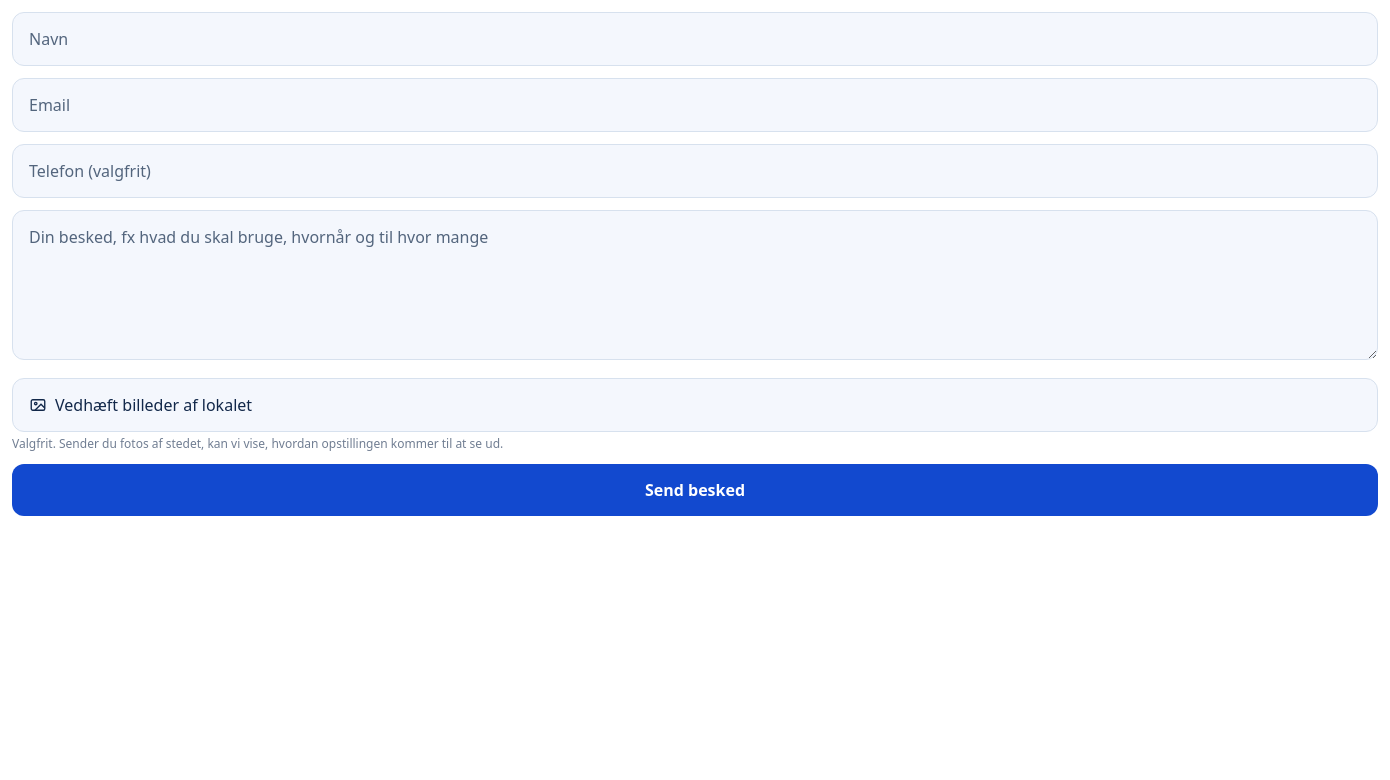
Test: ContactForm-komponenten › viser serverens fejlbesked og lader brugeren prøve igen
The width and height of the screenshot is (1390, 780).
Type "Anna" into the field with placeholder "Navn" at [695, 39], box [12,12,1378,66]
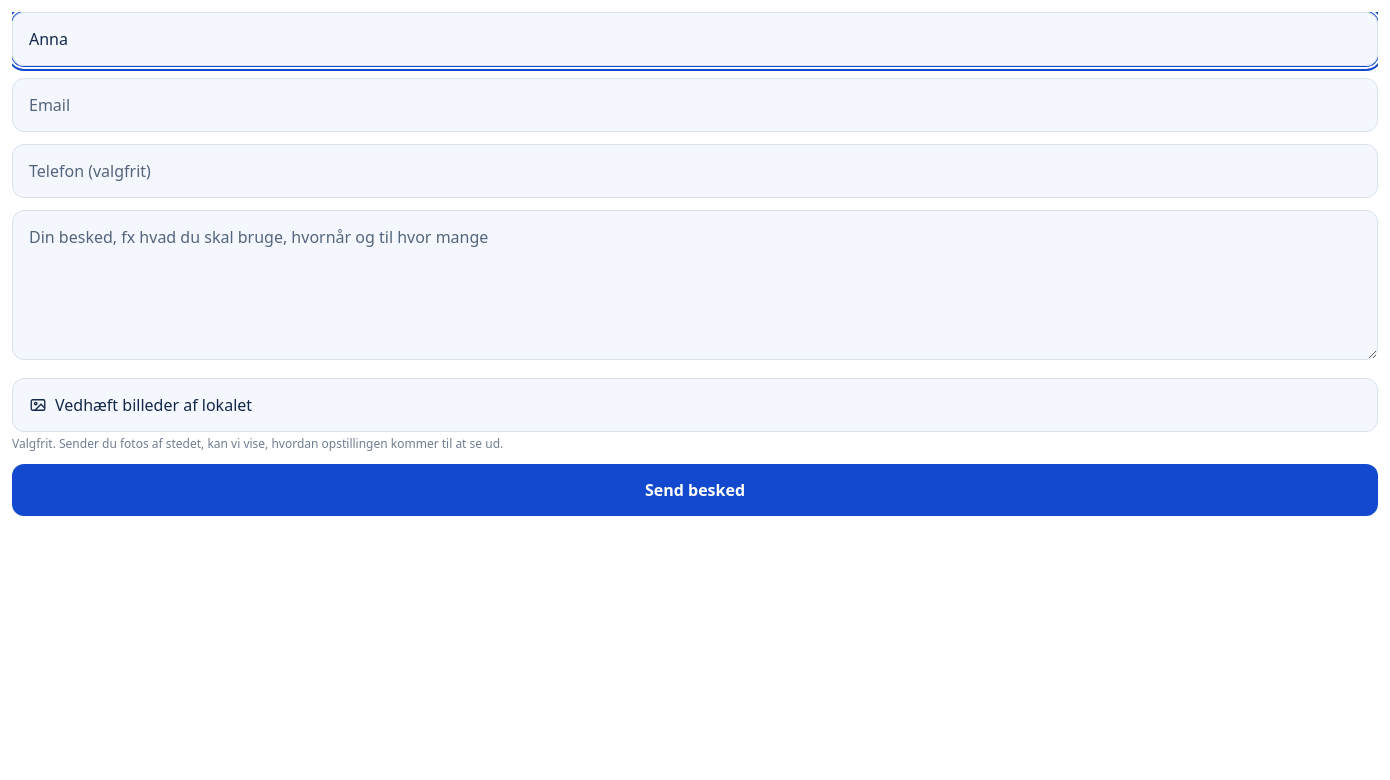
Type "anna@example.com" into the field with placeholder "Email" at [695, 105], box [12,78,1378,132]
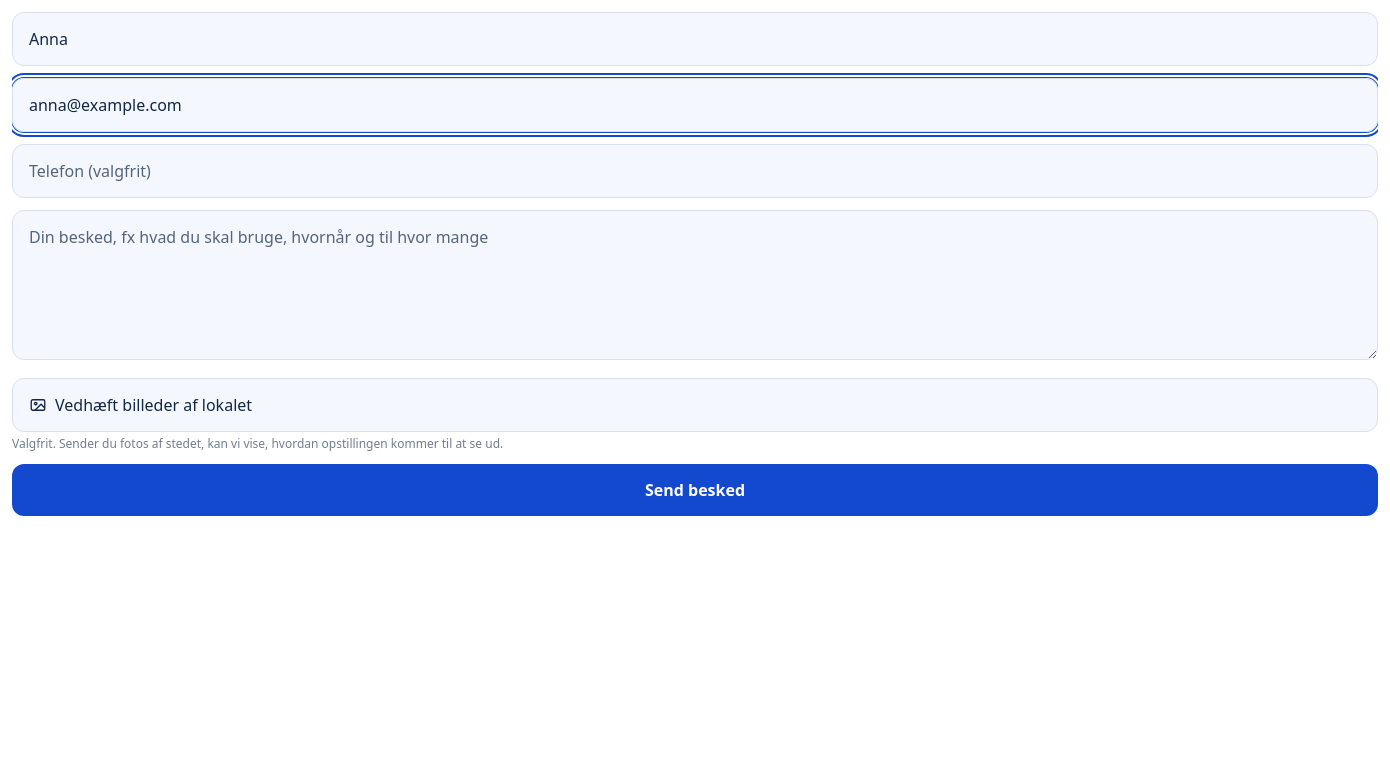
Type "hej hej hej" into the text box with placeholder "Din besked" at [695, 285], box [12,210,1378,360]
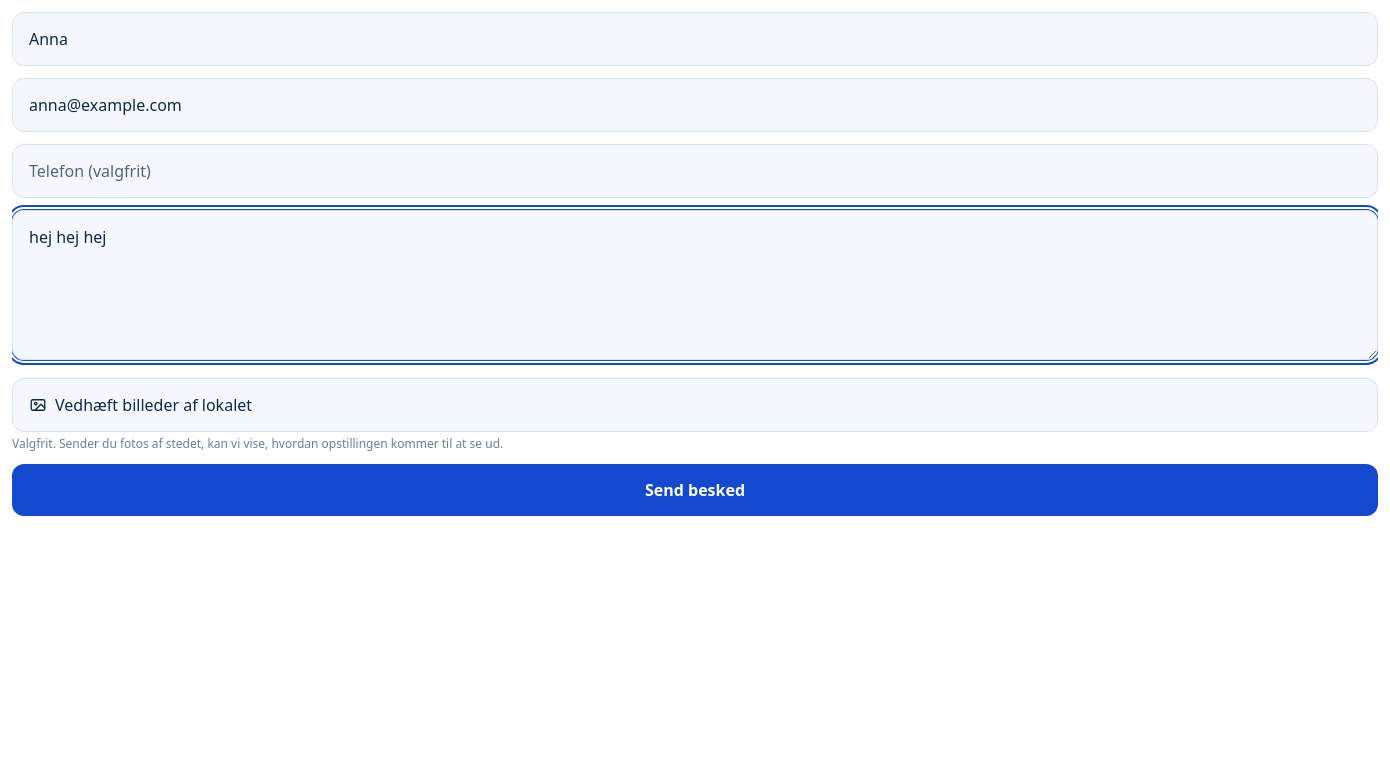
Click the button "Send besked" at [695, 490], box [12,464,1378,516]
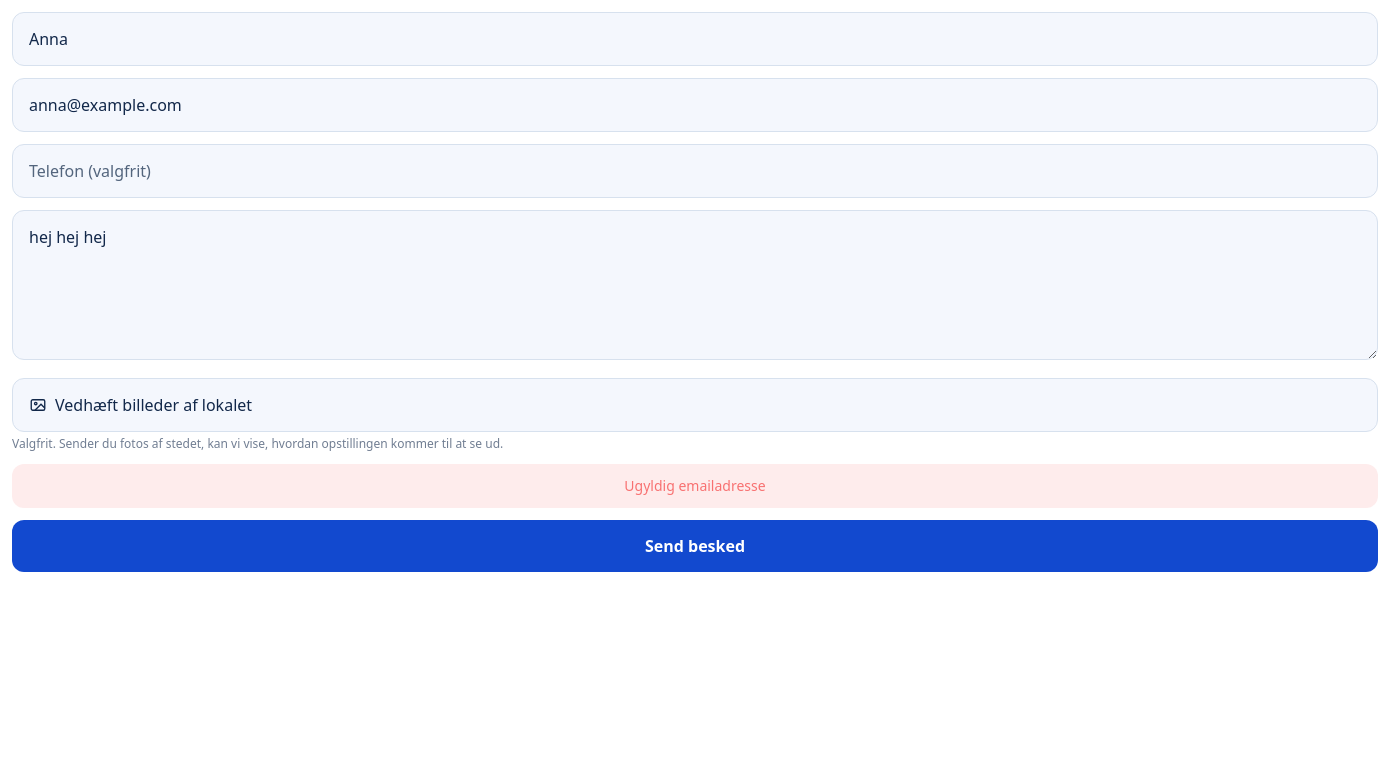
Expected: the button "Send besked" is enabled, [12,520,1378,572]
Now the message reads "Ugyldig emailadresse", box [624,476,766,495]
